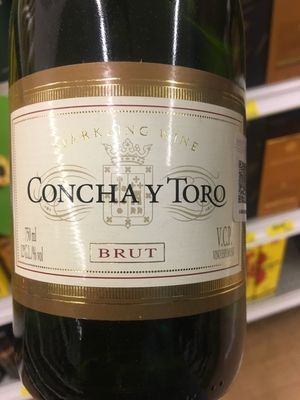brut: (8, 9, 256, 400)
